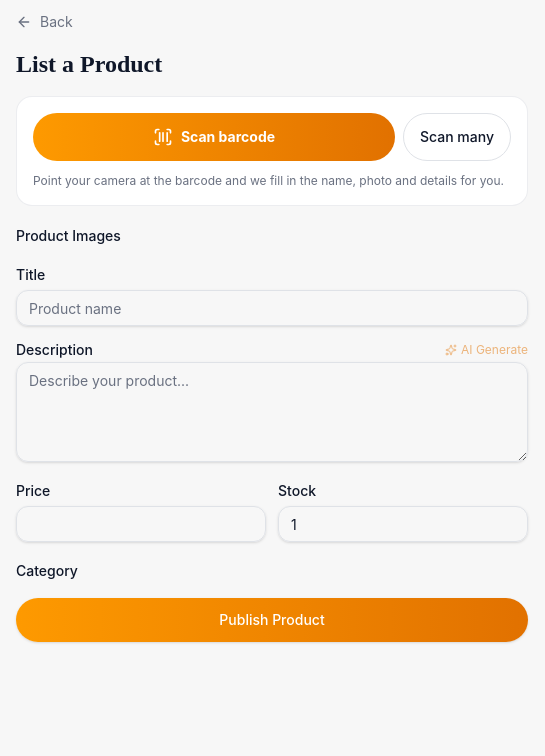
Test case: product form › says when you already sell the product, with Add stock
Click the button "Scan barcode". click: (214, 137)
box: 33,113 -> 395,161
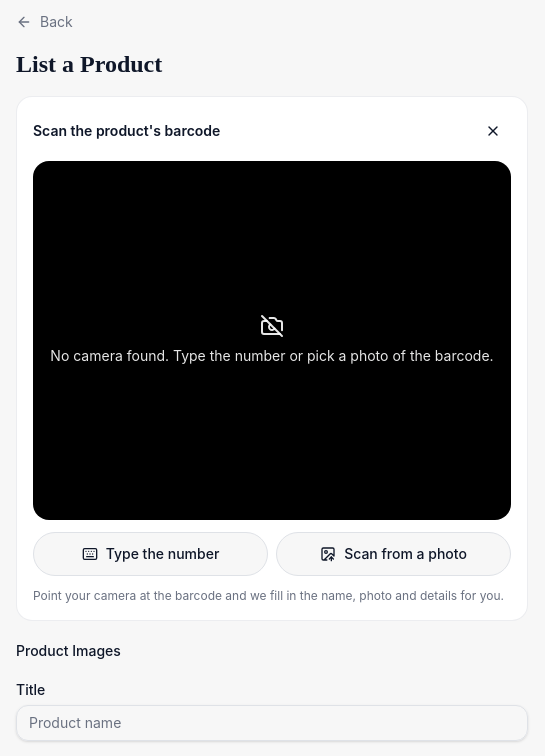
Click the button "Type the number". click: (150, 554)
box: 33,532 -> 268,576
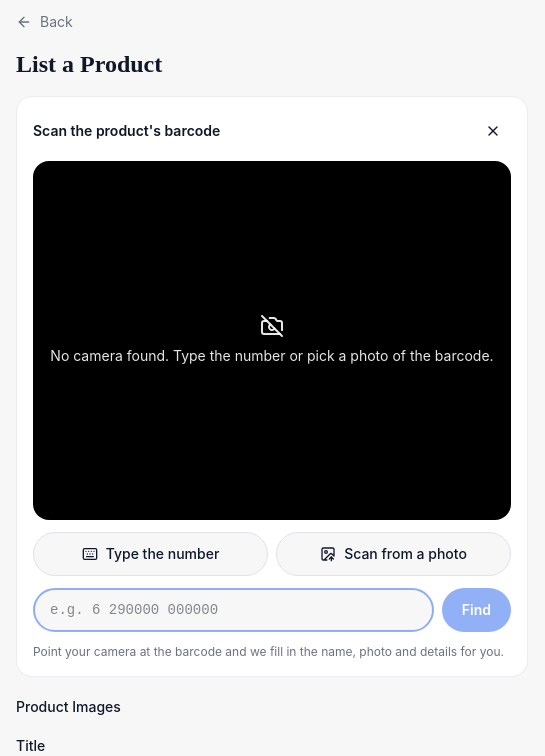
Type "96385074" into the field named "Barcode number". click: (233, 610)
box: 33,588 -> 434,632
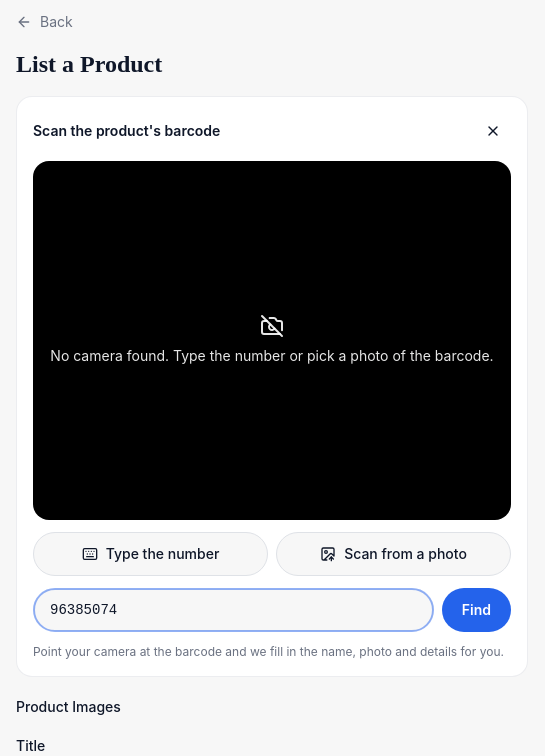
Click the button "Find". click: (476, 610)
box: 442,588 -> 511,632
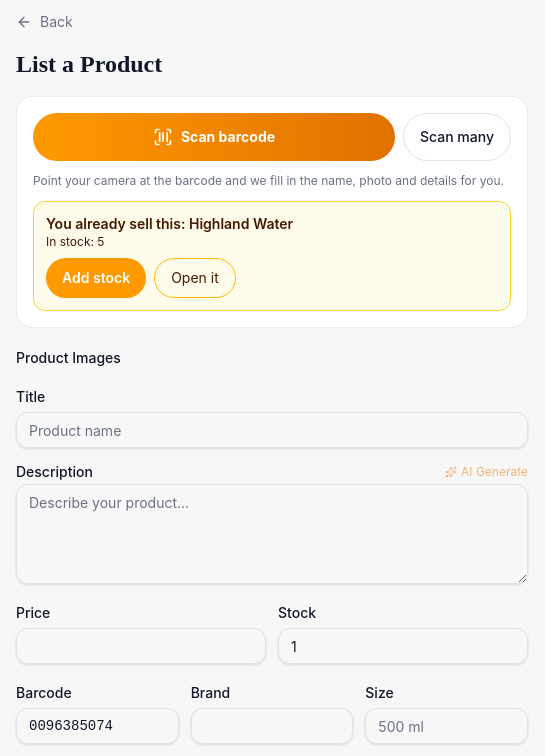
Check: the text "You already sell this: Highland Water" is shown, box 46,215 -> 293,232
